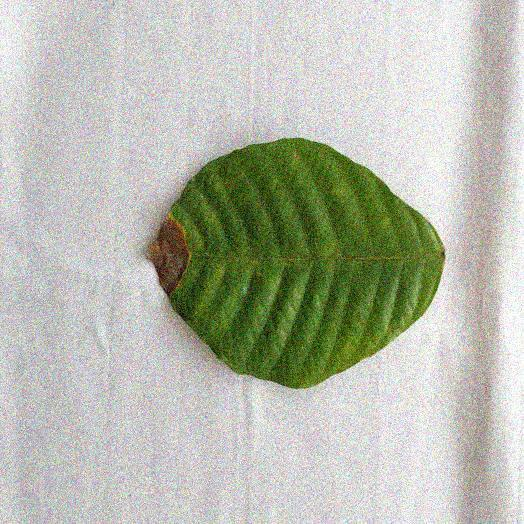Potassium: (151, 138, 444, 387)
